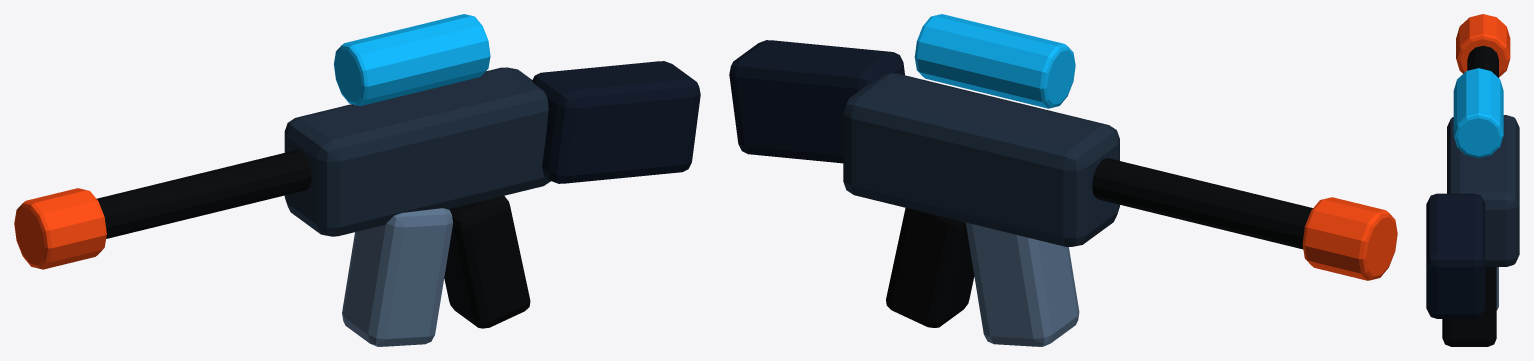
Rendered from training_rifle.obj.
3 renders of one model, left to right at view 1: azimuth 30°, elevation 25°; view 2: azimuth 150°, elevation 25°; view 3: azimuth 270°, elevation 25°, orthographic. The views are drawn at different scales.
Visible parts, largest first — view 1: rifle_receiver_M_gunmetal, rifle_stock_M_navy, rifle_magazine_M_steel, rifle_scope_M_cyan, rifle_barrel_M_black, rifle_grip_M_black, rifle_muzzle_M_orange; view 2: rifle_receiver_M_gunmetal, rifle_stock_M_navy, rifle_magazine_M_steel, rifle_scope_M_cyan, rifle_barrel_M_black, rifle_grip_M_black, rifle_muzzle_M_orange; view 3: rifle_stock_M_navy, rifle_receiver_M_gunmetal, rifle_scope_M_cyan, rifle_grip_M_black, rifle_muzzle_M_orange, rifle_barrel_M_black, rifle_magazine_M_steel.
Part boxes in pixels (x1,y1,x2,y2): rifle_receiver_M_gunmetal: (284,67,550,236); rifle_stock_M_navy: (532,61,700,183); rifle_magazine_M_steel: (342,208,452,346); rifle_scope_M_cyan: (334,14,490,106); rifle_barrel_M_black: (96,150,311,238); rifle_grip_M_black: (444,196,530,328); rifle_muzzle_M_orange: (14,188,106,269); rifle_receiver_M_gunmetal: (843,73,1119,246); rifle_stock_M_navy: (729,40,904,163); rifle_magazine_M_steel: (965,222,1079,346); rifle_scope_M_cyan: (914,14,1075,108); rifle_barrel_M_black: (1092,158,1312,249); rifle_grip_M_black: (886,208,974,327); rifle_muzzle_M_orange: (1302,197,1397,280); rifle_stock_M_navy: (1426,193,1485,318); rifle_receiver_M_gunmetal: (1447,115,1519,266); rifle_scope_M_cyan: (1453,68,1503,158); rifle_grip_M_black: (1442,267,1496,346); rifle_muzzle_M_orange: (1456,14,1510,77); rifle_barrel_M_black: (1467,45,1498,77); rifle_magazine_M_steel: (1496,267,1498,310).
Size of the model in its own units: 1.25 by 0.5553 by 0.205.
